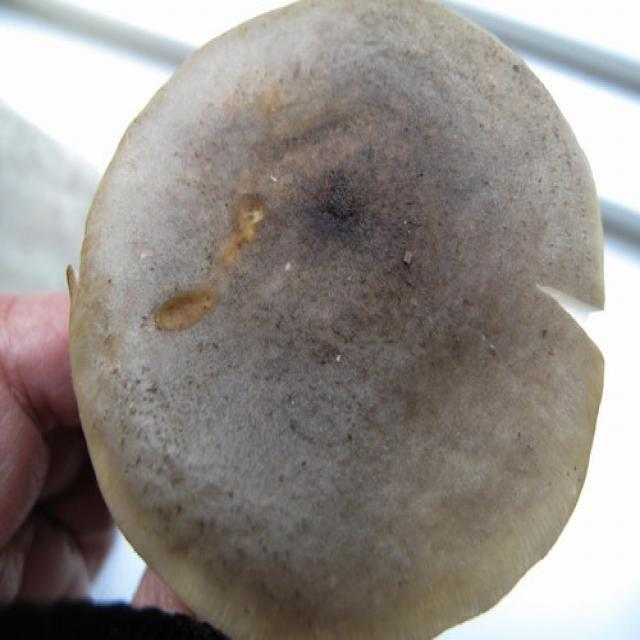Armillaria mellea: (72, 0, 603, 640)
